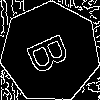B: (25, 27, 80, 77)
